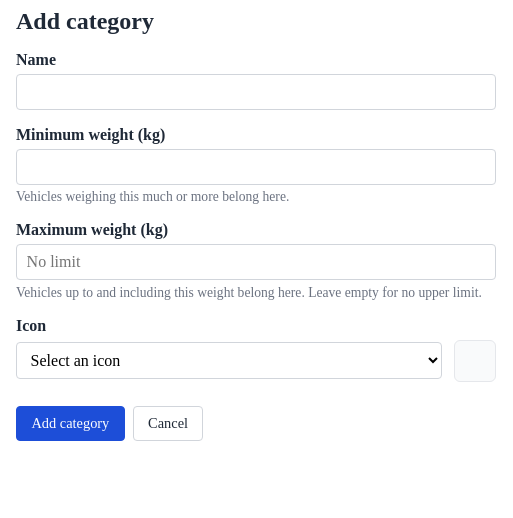
Test: CategoryFormComponent › reports max not above min
Type "6000" into the number field with id "minWeight".
click(256, 167); type("6000")  # box [16,149,496,185]
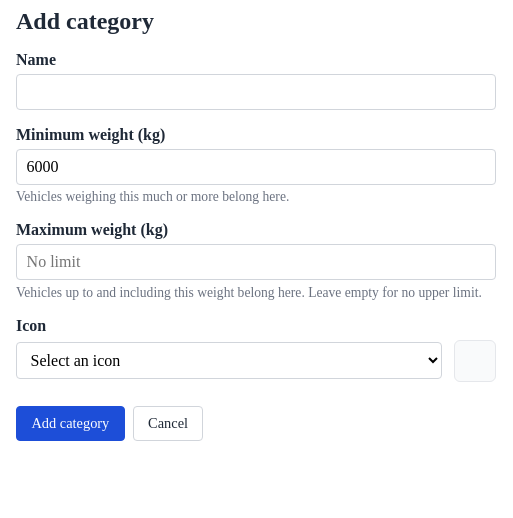
Type "6000" into the number field with id "maxWeight".
click(256, 262); type("6000")  # box [16,244,496,280]
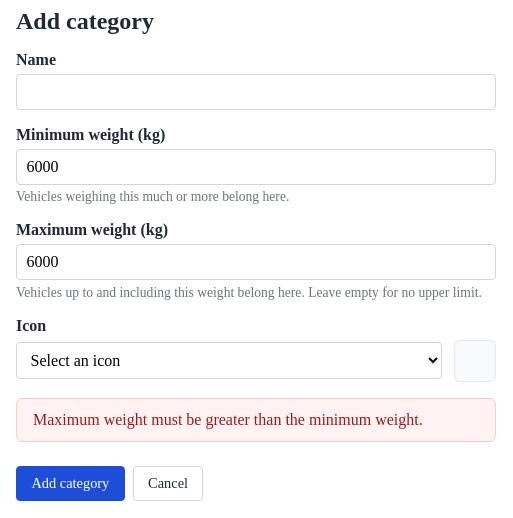
Check: the message with class "range-error" shows "greater than the minimum", box [33,411,423,428]
